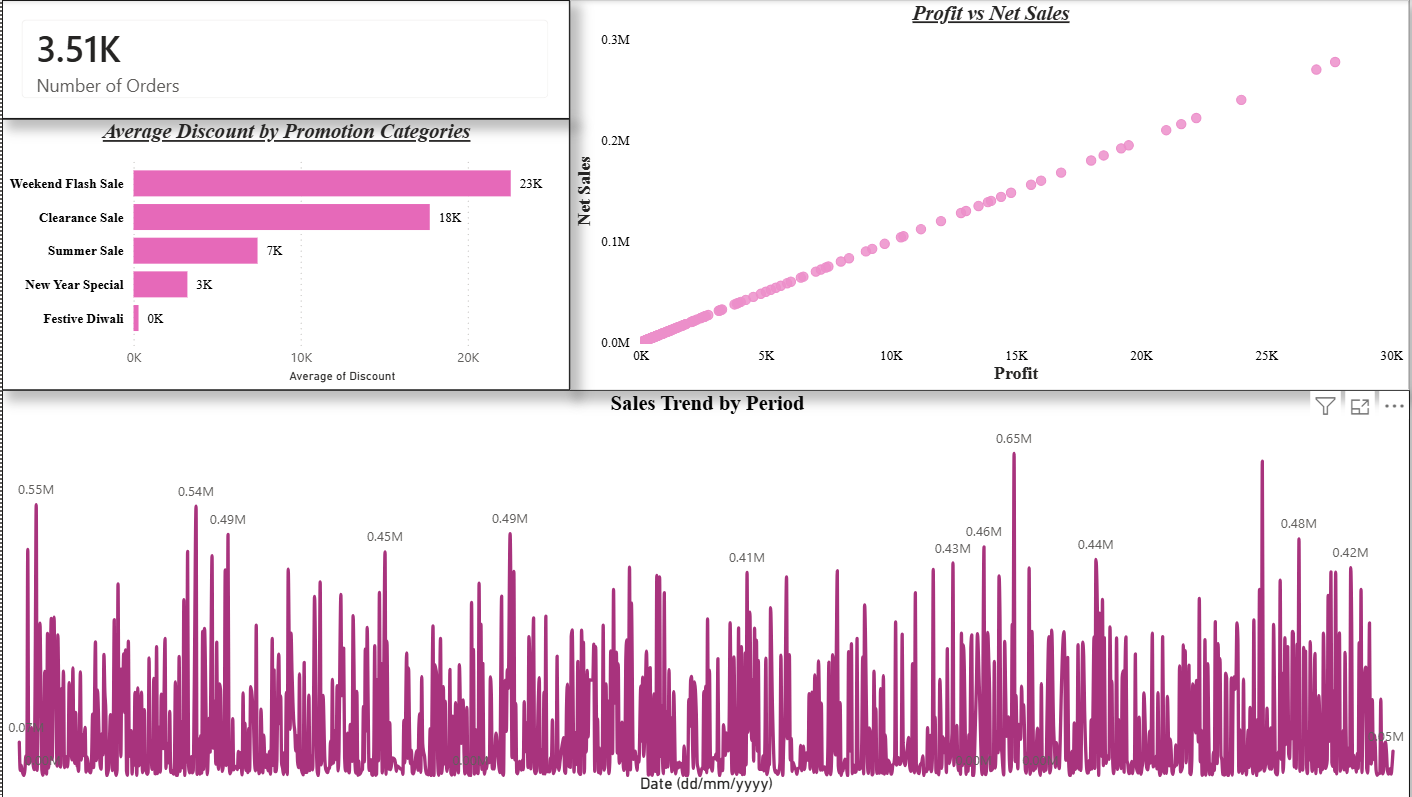

Layout of this report page (visuals, bound fields, positions):
{"tool":"powerbi","page":{"name":"Overview","canvas":[1280,720],"ordinal":1},"visuals":[{"type":"lineChart","title":"Sales Trend by Period","fields":{"Y":["Sum(Fact Table.Net Sales  )"],"Category":["Fact Table.Date (dd/mm/yyyy).Variation.Date Hierarchy.Year"]},"box":[0,351.3,1270.7,369.1],"z":0},{"type":"scatterChart","title":"Profit vs Net Sales  ","fields":{"X":["Fact Table.Profit"],"Y":["Fact Table.Net Sales  "]},"box":[511.7,0,758.6,351.7],"z":1000},{"type":"barChart","title":"Average Discount by Promotion Categories","fields":{"Y":["Avg(Fact Table.Discount)"],"Category":["Dim Promotion.Promotion Name"]},"box":[0,107.1,511.7,244.6],"z":2000},{"type":"cardVisual","fields":{"Data":["Count(Fact Table.Order ID)"]},"box":[0,0,511.7,107.1],"z":4000}]}

Visuals, with their boxes in screenshot pixels (x1, y1, x2, y2), scaled from the page's 1280x720 canvas onto the 1412x797 screenshot:
"Sales Trend by Period" lineChart: 0, 389, 1402, 796
"Profit vs Net Sales  " scatterChart: 564, 0, 1401, 389
"Average Discount by Promotion Categories" barChart: 0, 119, 564, 389
cardVisual - Count(Fact Table.Order ID): 0, 0, 564, 119
